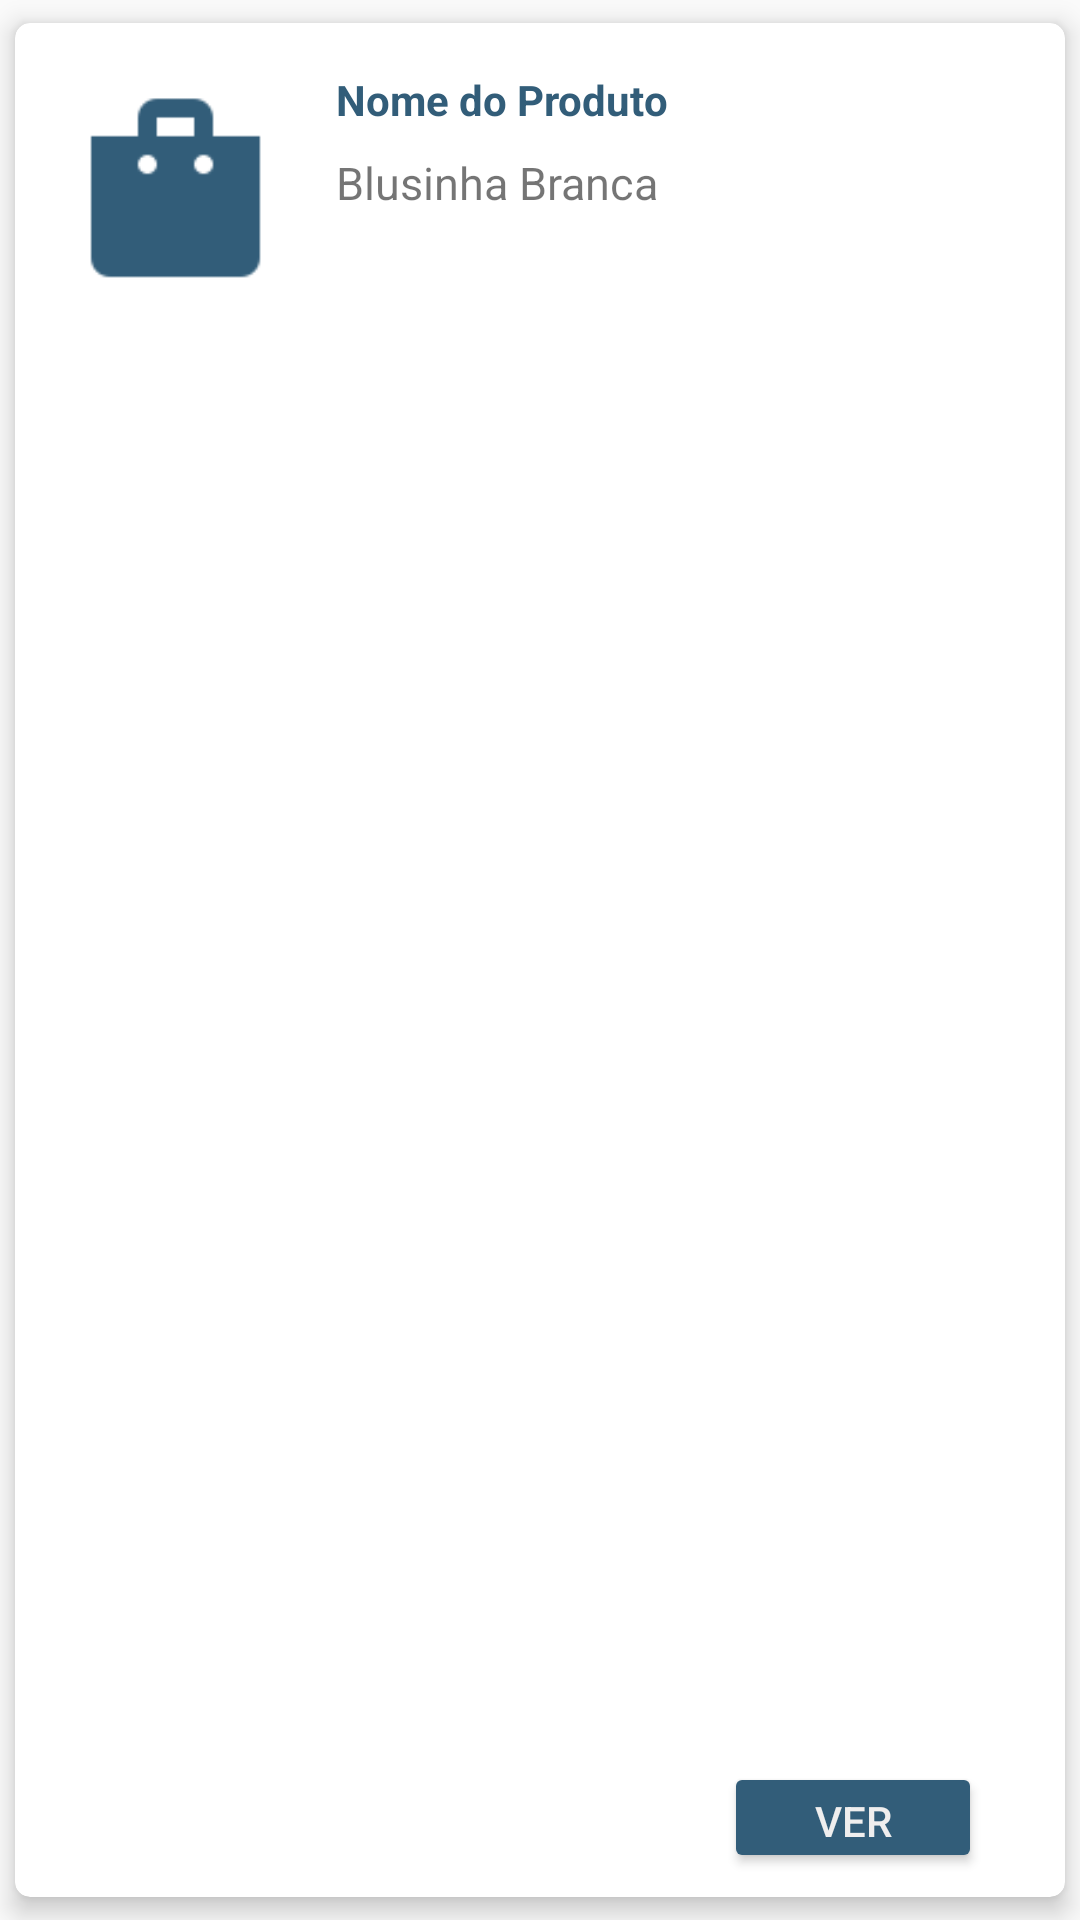

Where icons sit on this 1080px×1920px app screen, as (x1, y1, x2, y2):
shopping bag: (90, 98, 261, 278)
